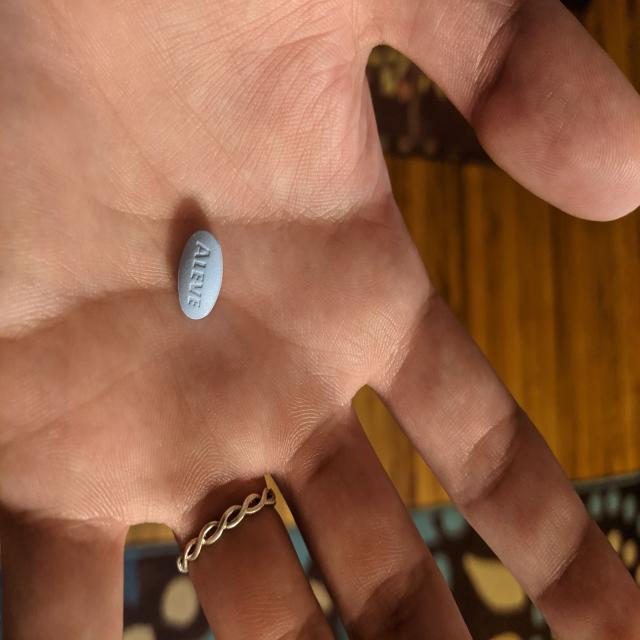non-organic waste: (177, 227, 225, 322)
